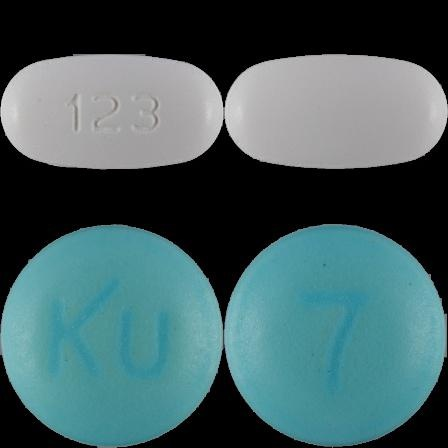50436-0296: (0, 0, 224, 224)
